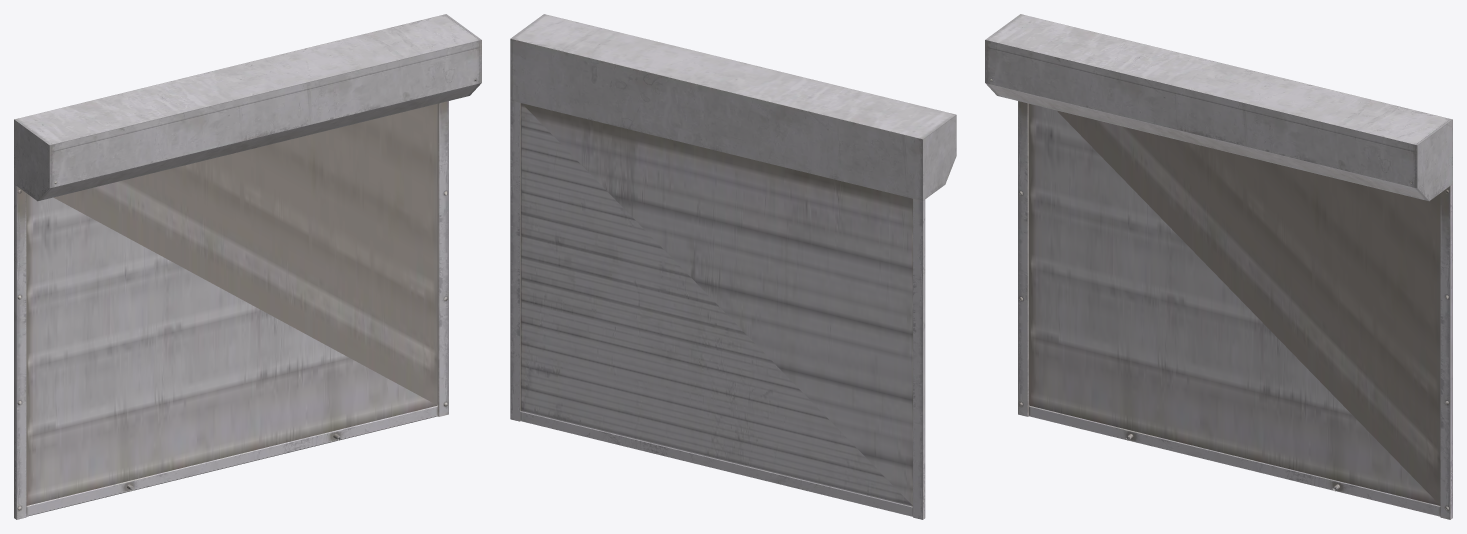
Rendered from rollershutter-window-01.glb.
3 views of the same model, side by side, from view 1: azimuth 30°, elevation 25°; view 2: azimuth 150°, elevation 25°; view 3: azimuth 330°, elevation 25° (orthographic). The views are drawn at different scales.
Parts seen in each view (by area): view 1: rollershutter_window_01; view 2: rollershutter_window_01; view 3: rollershutter_window_01.
Boxes of the visible parts, x1,y1,x2,y2 form: rollershutter_window_01: [14, 14, 481, 519]; rollershutter_window_01: [510, 14, 956, 519]; rollershutter_window_01: [985, 14, 1452, 519].
Bounding box in the file's own units: 2.1 × 1.85 × 0.2999.
1 material, 1 textured.
